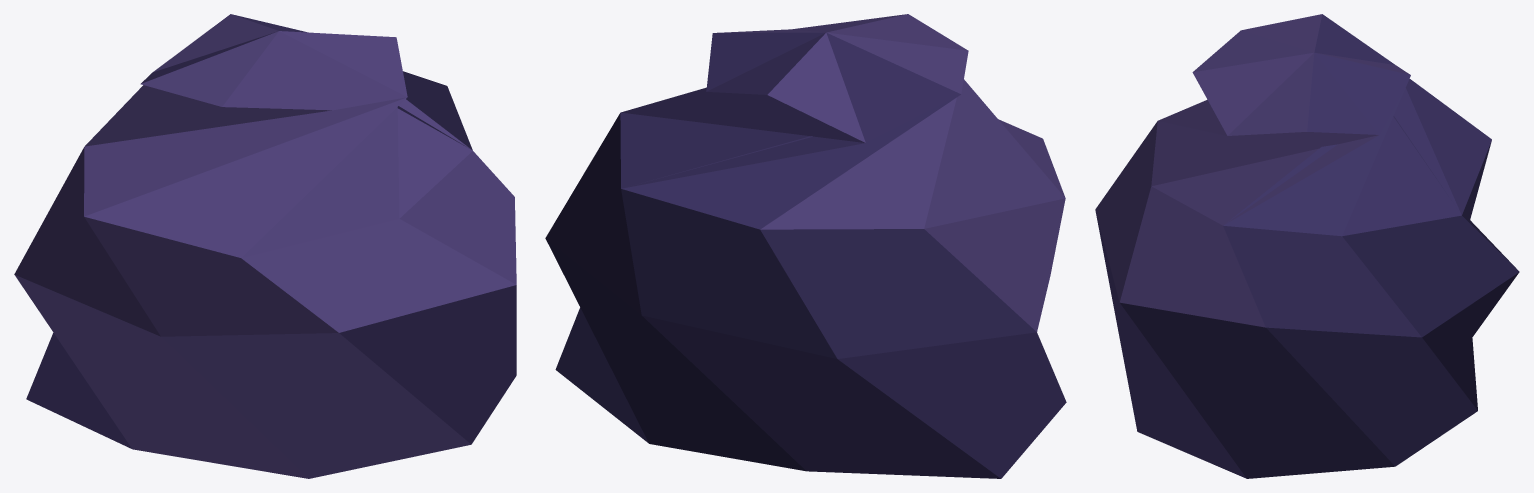
Rendered from rock-4.glb.
3 views of the same model, side by side, from view 1: azimuth 30°, elevation 25°; view 2: azimuth 150°, elevation 25°; view 3: azimuth 270°, elevation 25° (orthographic). The views are drawn at different scales.
Parts seen in each view (by area): view 1: rock-4; view 2: rock-4; view 3: rock-4.
Boxes of the visible parts, x1,y1,x2,y2 form: rock-4: [14, 14, 516, 478]; rock-4: [545, 14, 1066, 478]; rock-4: [1095, 14, 1519, 478].
Size of the model in its own units: 2.76 by 2.16 by 2.45.
